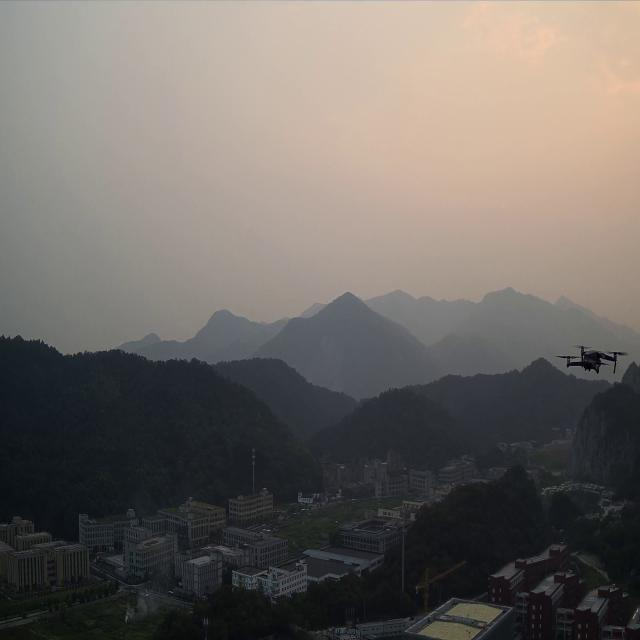UAV: (554, 340, 630, 378)
